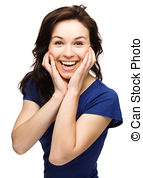face: (35, 5, 100, 87)
